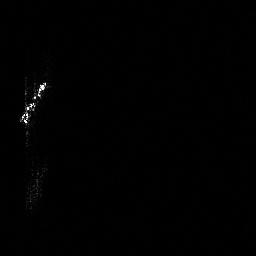ship: (16, 78, 49, 127)
